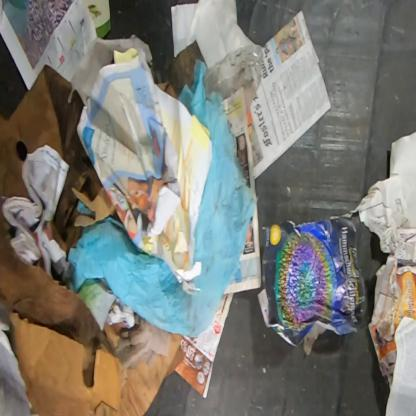cardboard: (0, 208, 185, 415), (0, 65, 84, 205)
soft_plastic: (203, 44, 265, 122)
